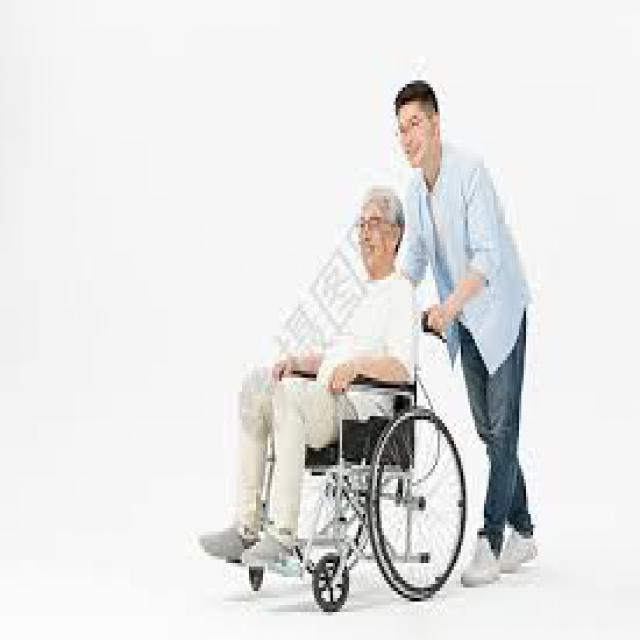wheelchairs: (221, 280, 473, 626)
